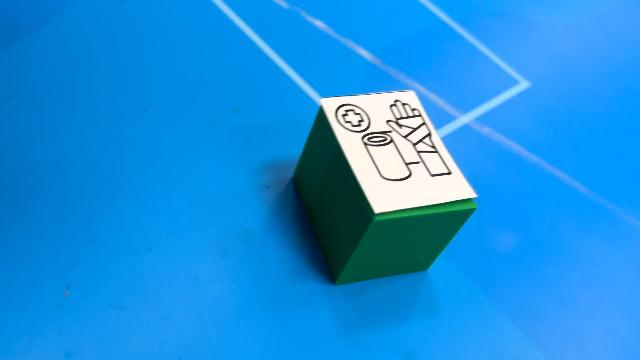bandage: (292, 89, 478, 285)
